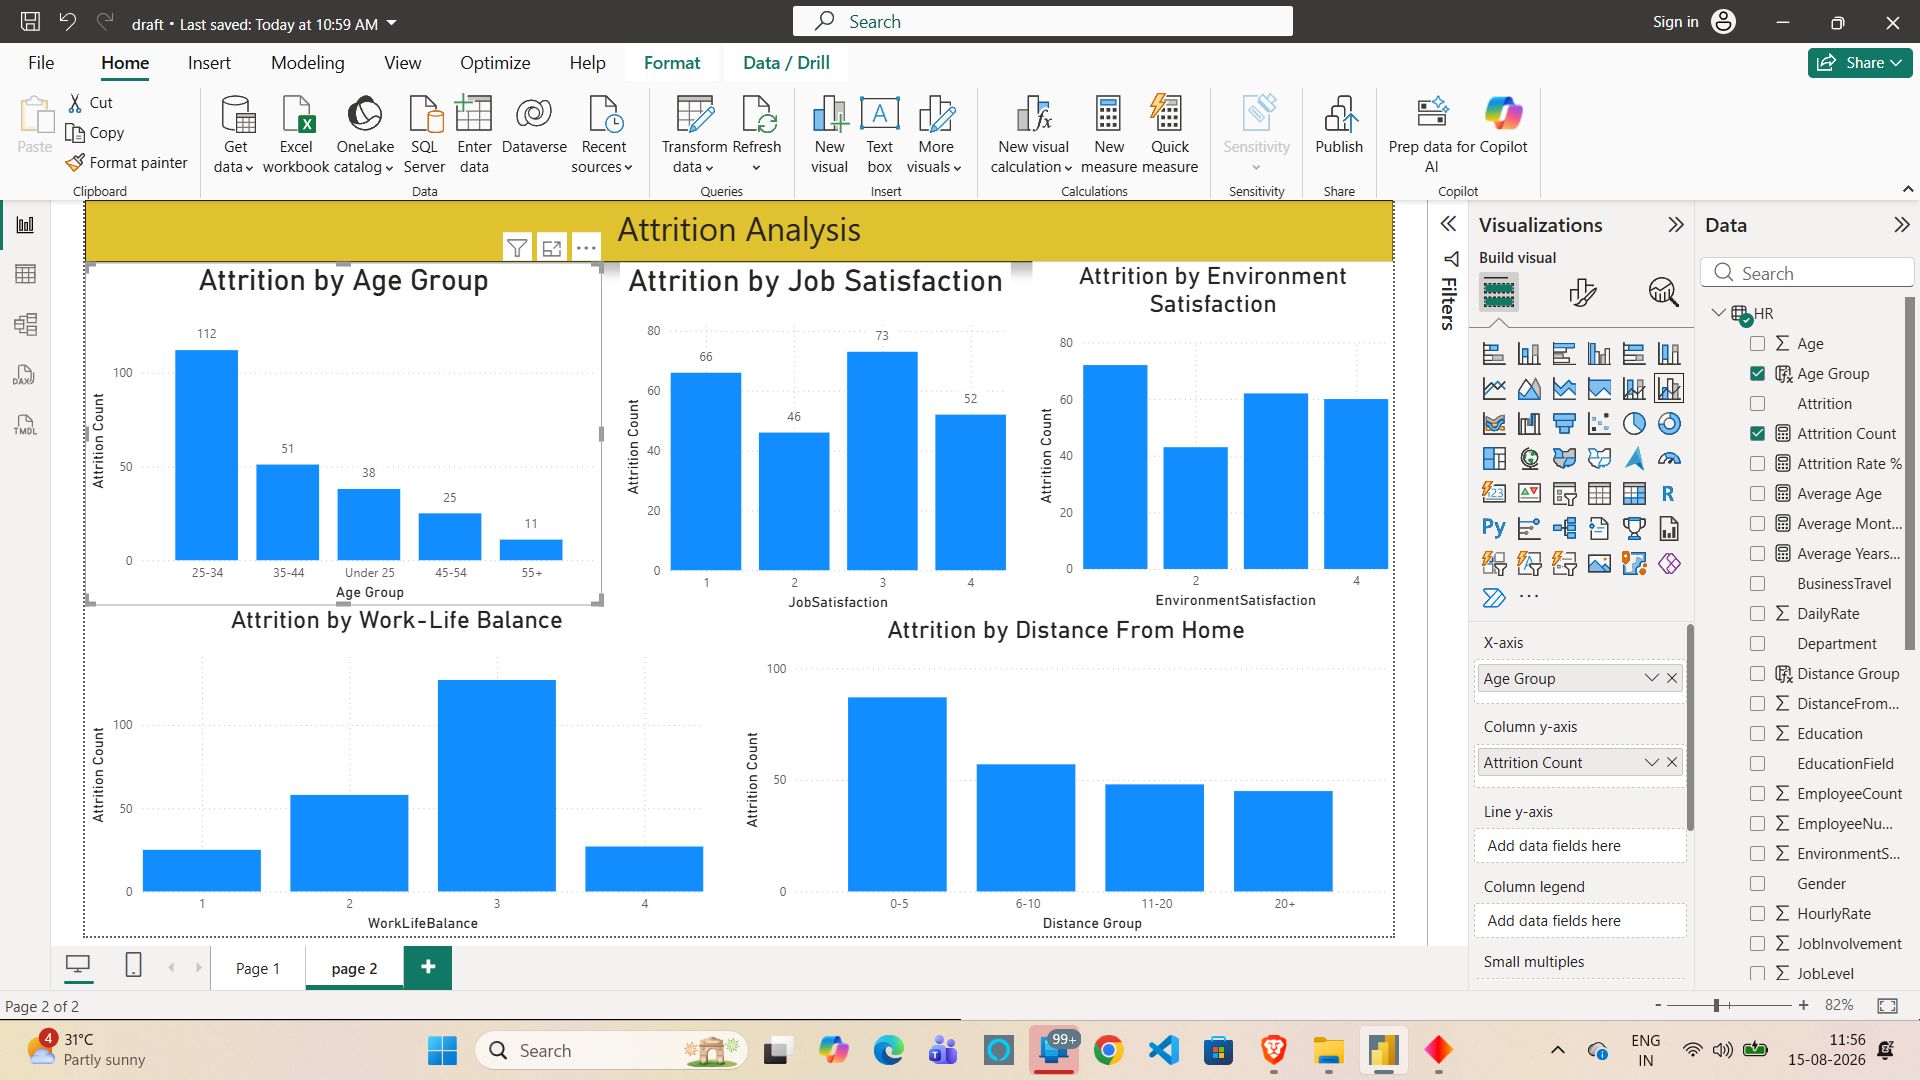

The dashboard page shown, as its layout file describes it:
{"tool":"powerbi","page":{"name":"Attrition Analysis","canvas":[1280,720],"ordinal":1},"visuals":[{"type":"textbox","box":[0,0,1280.3,61.1],"z":0},{"type":"lineClusteredColumnComboChart","title":"Attrition by Age Group","fields":{"Category":["HR.Age Group"],"Y":["HR.Attrition Count"]},"box":[14.5,73.6,492.2,322.1],"z":1000},{"type":"lineClusteredColumnComboChart","title":"Attrition by Job Satisfaction","fields":{"Y":["HR.Attrition Count"],"Category":["HR.JobSatisfaction"]},"box":[526,73.6,380,322.1],"z":2000},{"type":"lineClusteredColumnComboChart","title":"Attrition by Environment Satisfaction","fields":{"Category":["HR.EnvironmentSatisfaction"],"Y":["HR.Attrition Count"]},"box":[929,73.6,351.1,322.1],"z":3000},{"type":"lineClusteredColumnComboChart","title":"Attrition by Work-Life Balance","fields":{"Category":["HR.WorkLifeBalance"],"Y":["HR.Attrition Count"]},"box":[14.5,415,650.3,296.8],"z":4000},{"type":"lineClusteredColumnComboChart","title":"Attrition by Distance From Home","fields":{"Category":["HR.Distance Group"],"Y":["HR.Attrition Count"]},"box":[696.1,415,583.9,296.8],"z":5000},{"type":"pageNavigator","box":[0,51.5,1280,20.5],"z":8000},{"type":"listSlicer","fields":{"Values":["HR.BusinessTravel"]},"box":[0,335.4,222,132.7],"z":8001}]}

Visuals, with their boxes on the page's 1280x720 design canvas (x1, y1, x2, y2). These are canvas units, not pixel positions in the 1920x1080 screenshot, which may show the page scaled, cropped or inside an application window:
textbox: 0/0/1280/61
"Attrition by Age Group" lineClusteredColumnComboChart: 14/74/507/396
"Attrition by Job Satisfaction" lineClusteredColumnComboChart: 526/74/906/396
"Attrition by Environment Satisfaction" lineClusteredColumnComboChart: 929/74/1280/396
"Attrition by Work-Life Balance" lineClusteredColumnComboChart: 14/415/665/712
"Attrition by Distance From Home" lineClusteredColumnComboChart: 696/415/1280/712
pageNavigator: 0/52/1280/72
listSlicer - HR.BusinessTravel: 0/335/222/468
